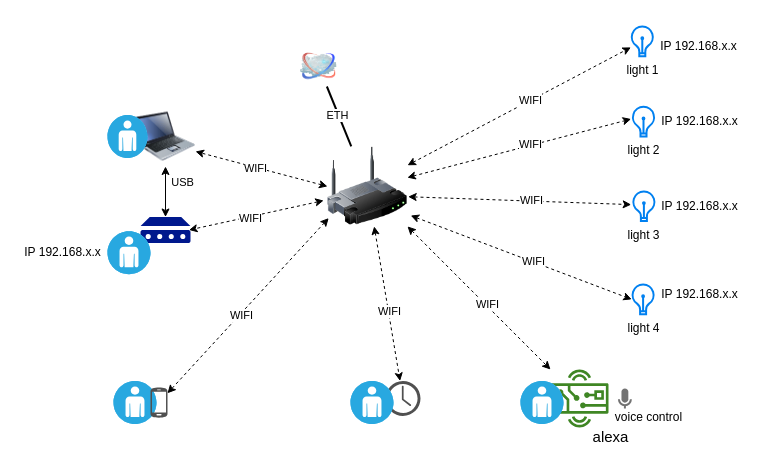
Some shapes in this 762 by 463 pixel diagram are drawn without their labels. Here are the shapes that lost their labels. From the top down, the centre of each, then its label:
At (318,66): "Internet".
At (402,398): "smartwatch".
